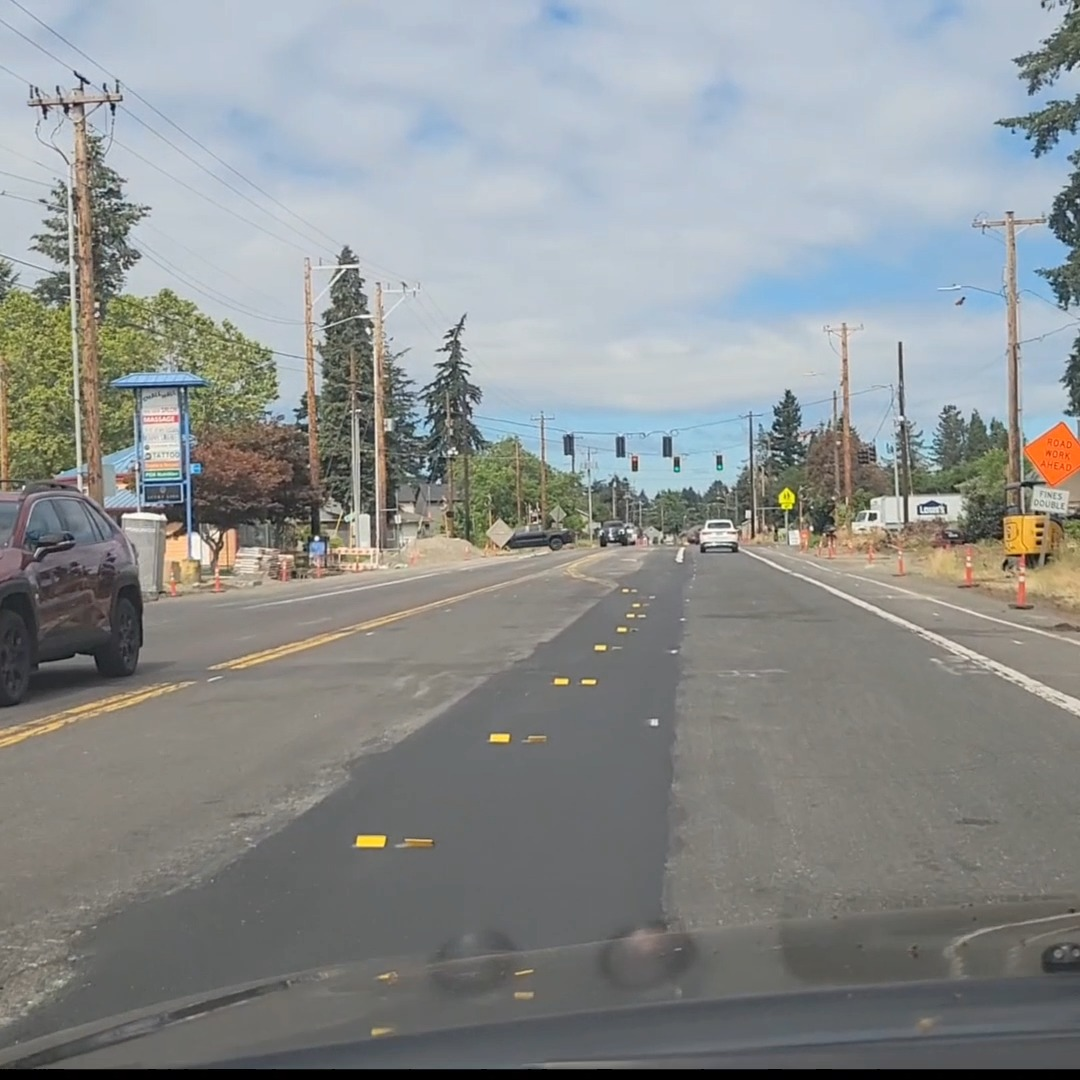car: (0, 487, 150, 707), (504, 525, 574, 551), (697, 519, 740, 553), (593, 520, 635, 547)
crosswalk-sign: (777, 487, 796, 510)
delineator: (1007, 560, 1033, 610), (959, 545, 978, 587), (166, 569, 182, 600), (893, 543, 907, 576), (407, 541, 420, 565), (211, 568, 223, 592), (865, 541, 876, 565), (278, 558, 289, 581), (826, 536, 835, 558), (799, 530, 808, 551), (844, 533, 853, 551), (463, 544, 471, 560)
